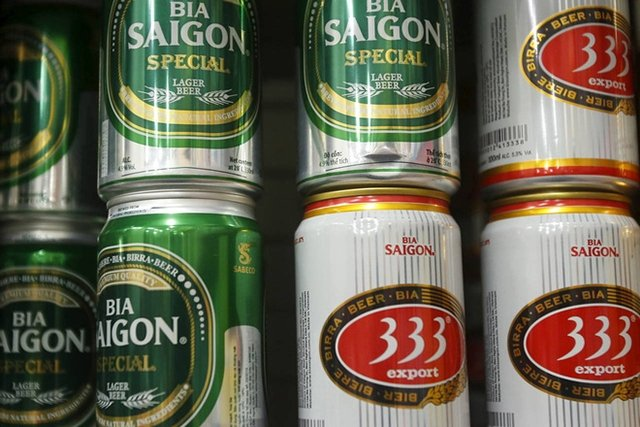333: (375, 313, 445, 365), (557, 313, 631, 362), (572, 29, 630, 77)
biasaigon: (127, 1, 245, 54), (325, 1, 441, 48), (94, 297, 180, 347)
